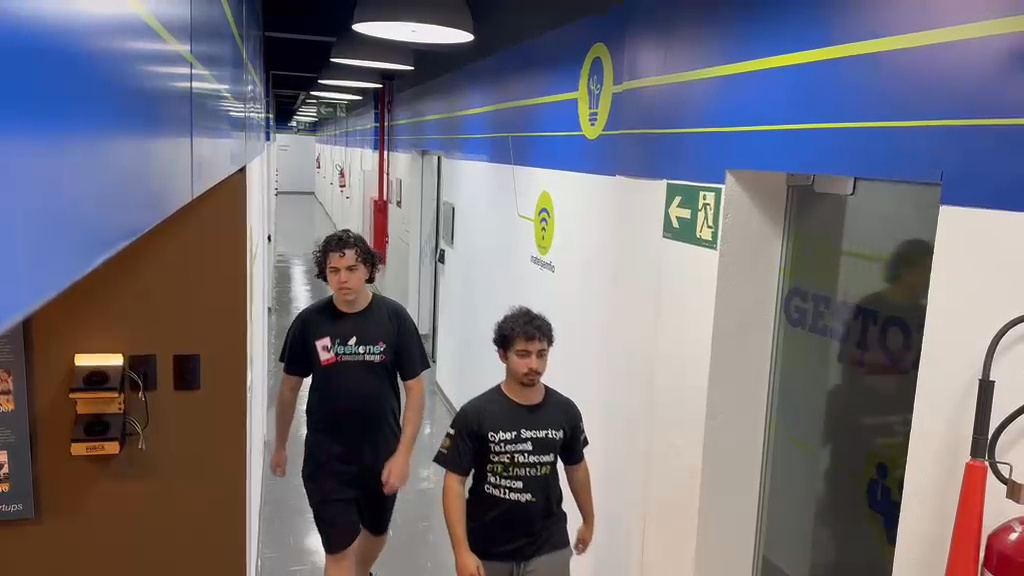person: (269, 229, 430, 573), (434, 304, 595, 575)
